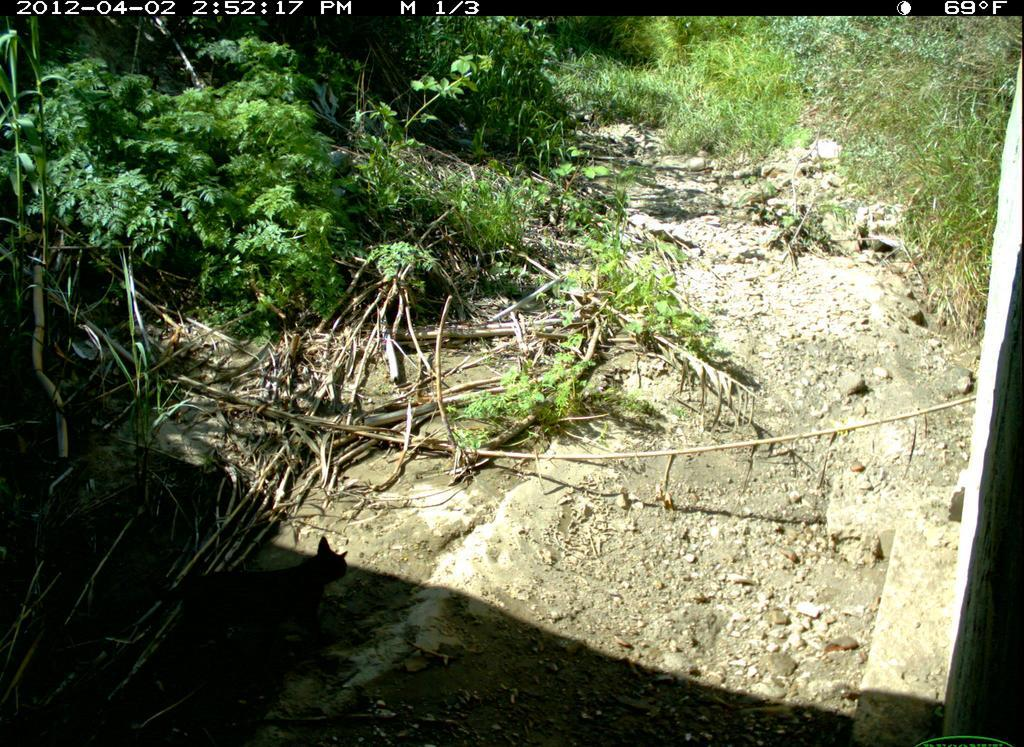cat: (149, 534, 359, 657)
